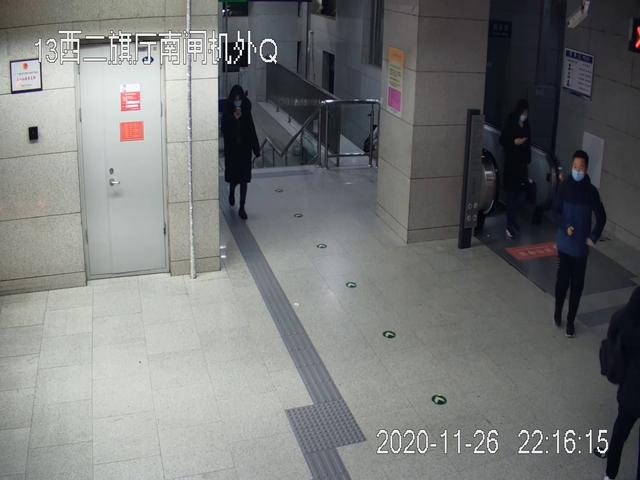person: (552, 151, 606, 336), (221, 84, 262, 220), (496, 100, 534, 240)
